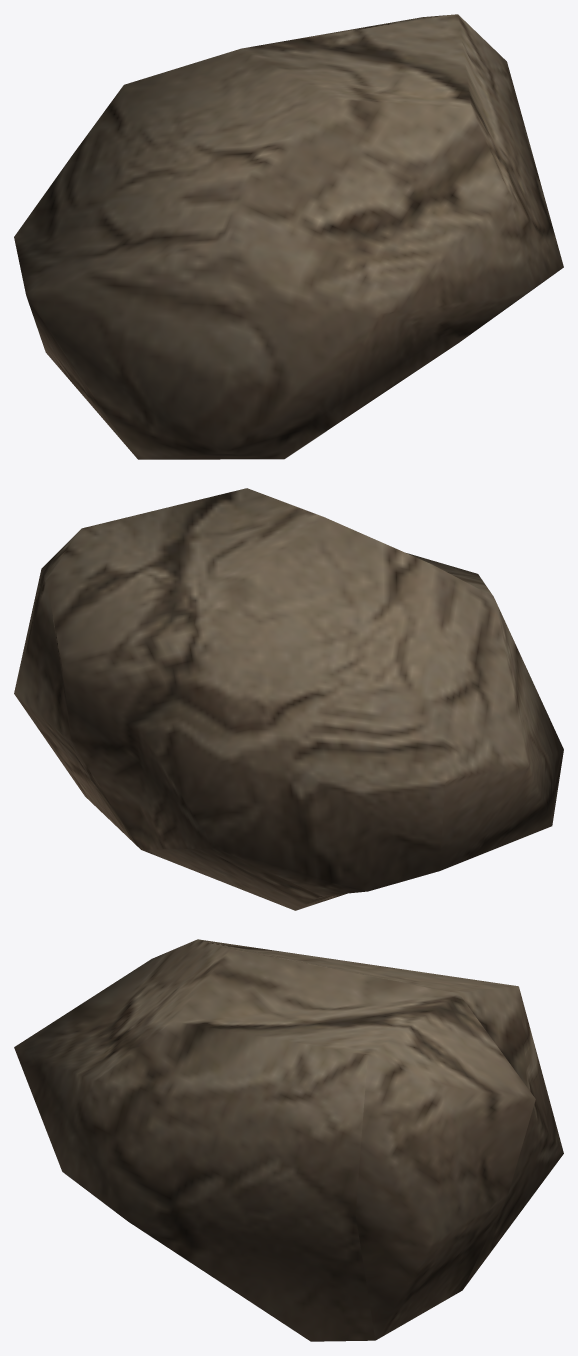
File: shitou06.FBX
The picture shows the model from 3 angles, top to bottom: view 1: azimuth 30°, elevation 25°; view 2: azimuth 150°, elevation 25°; view 3: azimuth 270°, elevation 25°; orthographic projection. The views are drawn at different scales.
Parts seen in each view (by area): view 1: polySurface16; view 2: polySurface16; view 3: polySurface16.
Part boxes in pixels (x1,y1,x2,y2): polySurface16: (14, 14, 563, 459); polySurface16: (14, 488, 563, 910); polySurface16: (14, 939, 563, 1341).
Bounding box in the file's own units: 47.12 × 31.1 × 43.62.
